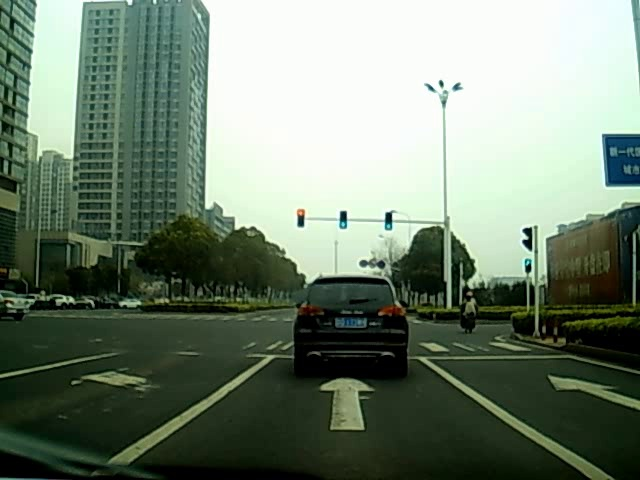Traffic_Light_go: (337, 210, 348, 230), (385, 213, 392, 231)
Traffic_Light_stop: (297, 208, 305, 229)
